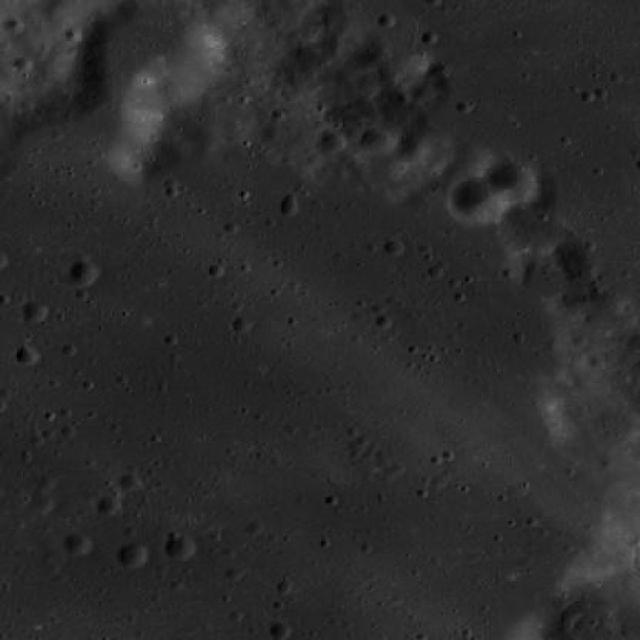crater: (72, 0, 222, 114), (12, 85, 152, 202), (450, 174, 510, 223), (486, 162, 539, 205), (360, 124, 398, 158), (394, 136, 426, 164), (166, 534, 197, 560), (117, 542, 148, 568), (68, 260, 97, 285), (22, 301, 48, 324), (318, 132, 344, 154), (64, 533, 90, 555), (30, 492, 53, 512), (268, 621, 291, 640), (118, 473, 140, 492), (96, 497, 119, 515), (15, 346, 37, 364), (4, 17, 24, 34), (232, 316, 252, 332), (383, 241, 402, 256), (279, 202, 298, 216), (0, 0, 2, 2)
